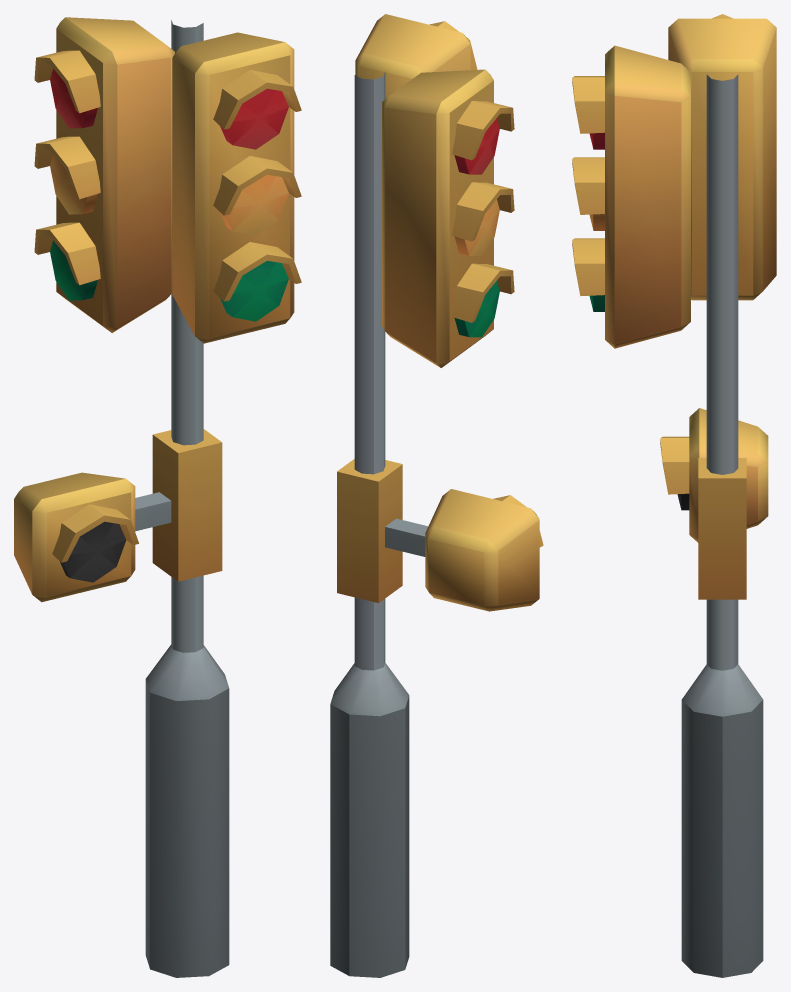
File: kay-semaforo.gltf
3 views of the same model, side by side, from view 1: azimuth 30°, elevation 25°; view 2: azimuth 150°, elevation 25°; view 3: azimuth 270°, elevation 25° (orthographic). The views are drawn at different scales.
Parts seen in each view (by area): view 1: trafficlight_A; view 2: trafficlight_A; view 3: trafficlight_A.
Part boxes in pixels (x1,y1,x2,y2): trafficlight_A: (14, 17, 301, 977); trafficlight_A: (330, 14, 543, 977); trafficlight_A: (572, 14, 776, 977).
Size of the model in its own units: 0.8723 by 3.65 by 0.7529.
Materials: 1 (1 with a texture image).
